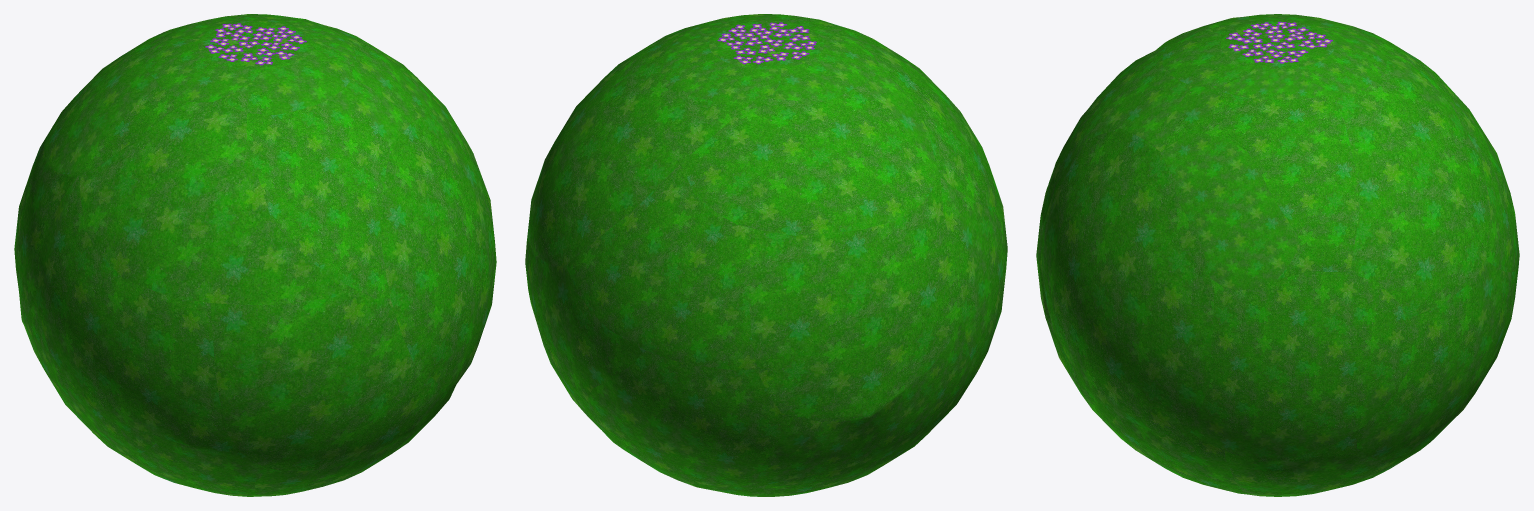
The model's file is DinoPackunHikePlanet.fbx.
3 renders of one model, left to right at view 1: azimuth 30°, elevation 25°; view 2: azimuth 150°, elevation 25°; view 3: azimuth 270°, elevation 25°, orthographic.
Parts seen in each view (by area): view 1: Plane, Plane.001; view 2: Plane, Plane.001; view 3: Plane, Plane.001.
Part boxes in pixels (x1,y1,x2,y2): Plane: [14, 14, 496, 496]; Plane.001: [205, 23, 306, 65]; Plane: [525, 14, 1007, 496]; Plane.001: [717, 22, 816, 64]; Plane: [1036, 14, 1519, 496]; Plane.001: [1226, 21, 1332, 63].
Size of the model in its own units: 305000 by 302666 by 305000.
2 materials, 2 textured.
